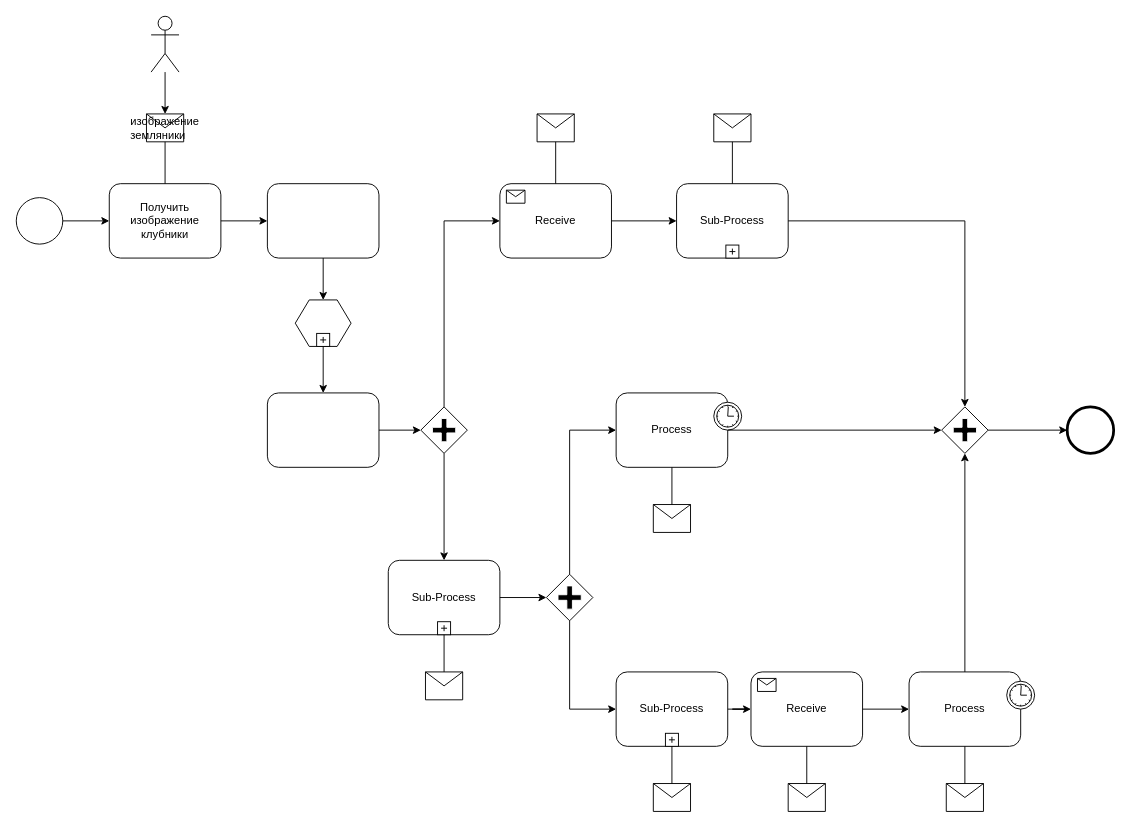
The diagram is 1130 pixels wide and 828 high, and some of its shapes have lost their labels. Each missing label, with the box of its shape:
Task: (266, 392, 379, 467)
Исследователь/пользователь: (150, 15, 179, 72)
Привести к нормировано: (266, 183, 379, 258)
